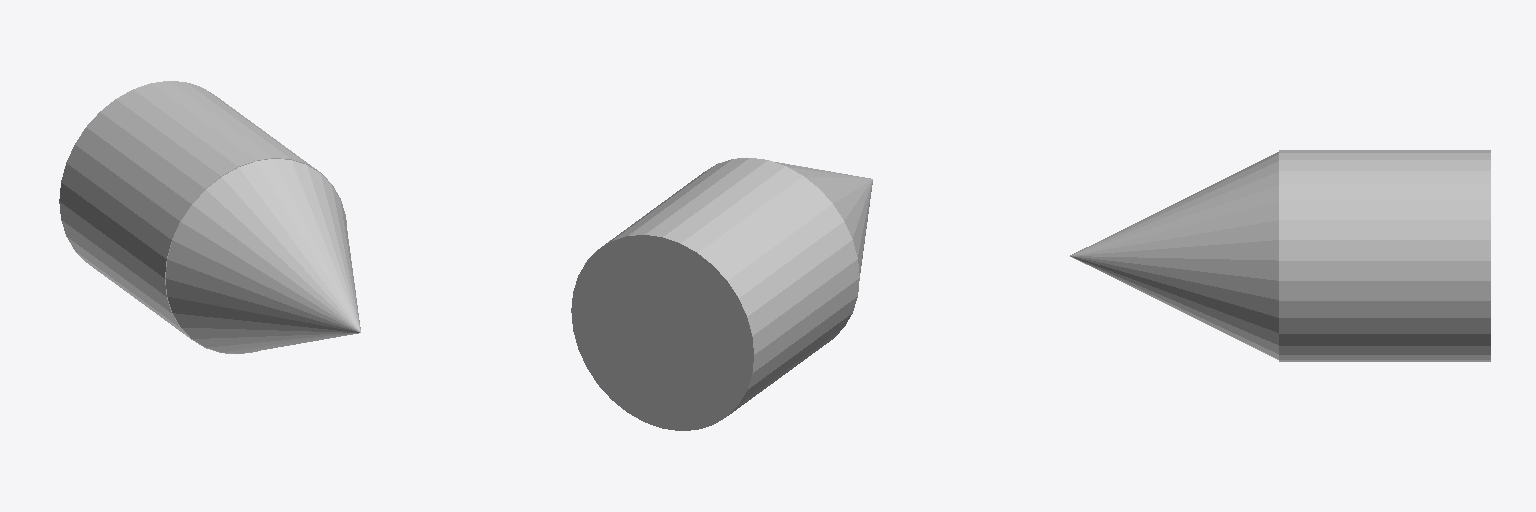
The model's file is Missile.obj.
The picture shows the model from 3 angles: view 1: azimuth 30°, elevation 25°; view 2: azimuth 150°, elevation 25°; view 3: azimuth 270°, elevation 25°; orthographic projection.
Visible parts, largest first — view 1: Cone; view 2: Cone; view 3: Cone.
Part boxes in pixels (bbox=[...]): Cone: bbox=[59, 81, 360, 353]; Cone: bbox=[571, 158, 872, 430]; Cone: bbox=[1070, 150, 1490, 361].
Bounding box in the file's own units: 2 × 2 × 3.99.